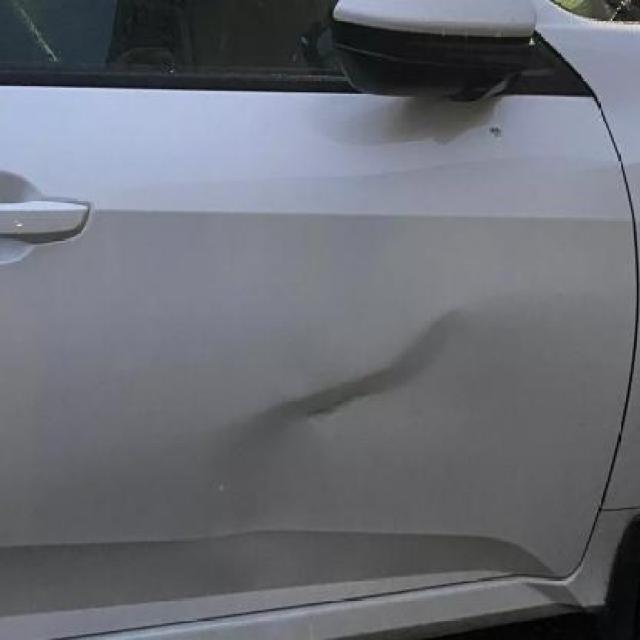dent: (20, 290, 604, 603)
